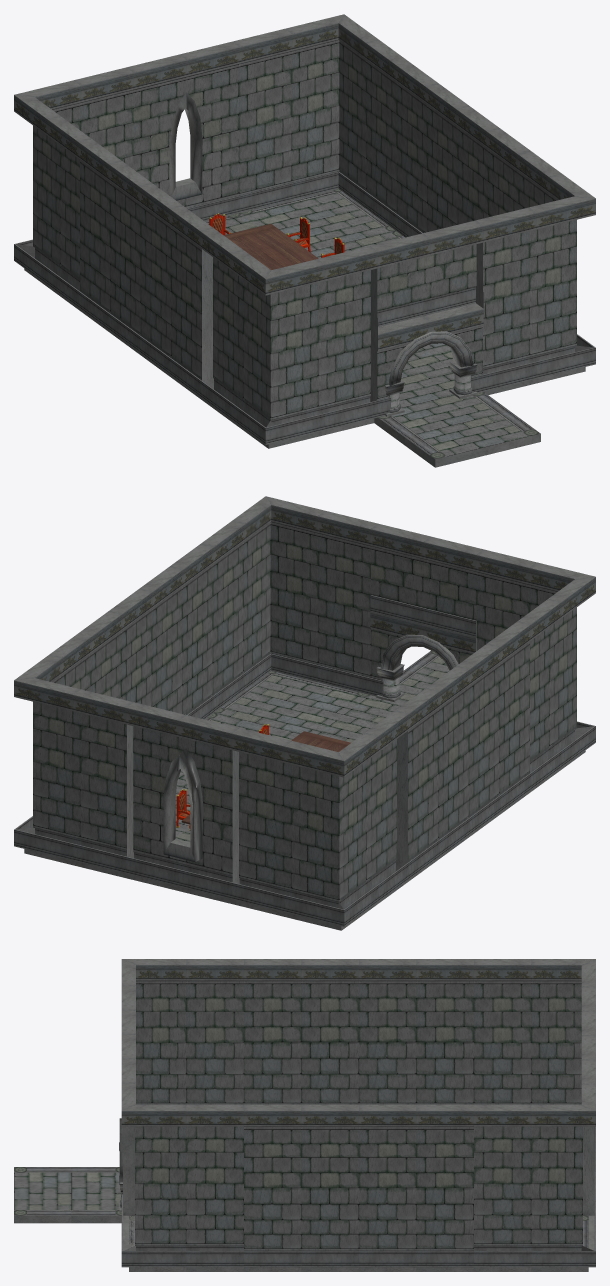
The model's file is Meeting.glb.
3 views of the same model, one above another, from view 1: azimuth 30°, elevation 25°; view 2: azimuth 150°, elevation 25°; view 3: azimuth 270°, elevation 25° (orthographic). The views are drawn at different scales.
Parts seen in each view (by area): view 1: wall_large_corner_01.002, wall_large_corner_01.003, wall_large_corner_01, wall_large_03.001, wall_large_corner_01.001, wall_large_01.003, wall_large_01.002, wall_large_01, wall_large_01.004, floor_large_trim_LR_01, door_arched_01.001, wall_large_01.001 (+6 smaller); view 2: wall_large_corner_01.001, wall_large_corner_01, wall_large_corner_01.003, wall_large_03.001, wall_large_corner_01.002, wall_large_01.002, wall_large_01.003, wall_large_01.004, wall_large_01.001, wall_large_01, floor_large_cornertrim_BR_01, door_arched_01.001 (+7 smaller); view 3: wall_large_corner_01.003, wall_large_corner_01, wall_large_01, wall_large_01.001, wall_large_01.002, wall_large_01.003, wall_large_corner_01.002, wall_large_corner_01.001, floor_large_trim_LR_01, door_arched_01.001, wall_large_01.004, wall_large_03.001 (+4 smaller).
Boxes of the visible parts, x1,y1,x2,y2 form: wall_large_corner_01.002: (201,228,377,444); wall_large_corner_01.003: (232,14,408,230); wall_large_corner_01: (476,151,595,391); wall_large_03.001: (126,41,239,221); wall_large_corner_01.001: (14,67,133,307); wall_large_01.003: (140,184,213,397); wall_large_01.002: (79,139,152,352); wall_large_01: (396,62,469,237); wall_large_01.004: (370,220,483,334); floor_large_trim_LR_01: (374,392,540,467); door_arched_01.001: (377,303,483,417); wall_large_01.001: (457,106,530,224); wall_large_corner_01.001: (232,710,408,926); wall_large_corner_01: (201,496,377,712); wall_large_corner_01.003: (14,633,133,873); wall_large_03.001: (126,702,239,899); wall_large_corner_01.002: (476,549,595,789); wall_large_01.002: (396,665,469,879); wall_large_01.003: (457,621,530,834); wall_large_01.004: (370,523,483,637); wall_large_01.001: (140,543,213,719); wall_large_01: (79,588,152,706); floor_large_cornertrim_BR_01: (214,671,369,734); door_arched_01.001: (370,612,476,702); wall_large_corner_01.003: (474,1059,595,1267); wall_large_corner_01: (121,1059,243,1267); wall_large_01: (359,1104,473,1267); wall_large_01.001: (244,1104,358,1267); wall_large_01.002: (359,959,473,1104); wall_large_01.003: (244,959,358,1104); wall_large_corner_01.002: (121,959,243,1104); wall_large_corner_01.001: (474,959,595,1151); floor_large_trim_LR_01: (14,1167,121,1223); door_arched_01.001: (119,1118,134,1215); wall_large_01.004: (121,1010,135,1137); wall_large_03.001: (581,1010,595,1199).
Bounding box in the file's own units: 12.5 × 6.3 × 20.25.
16 materials, 16 textured.
